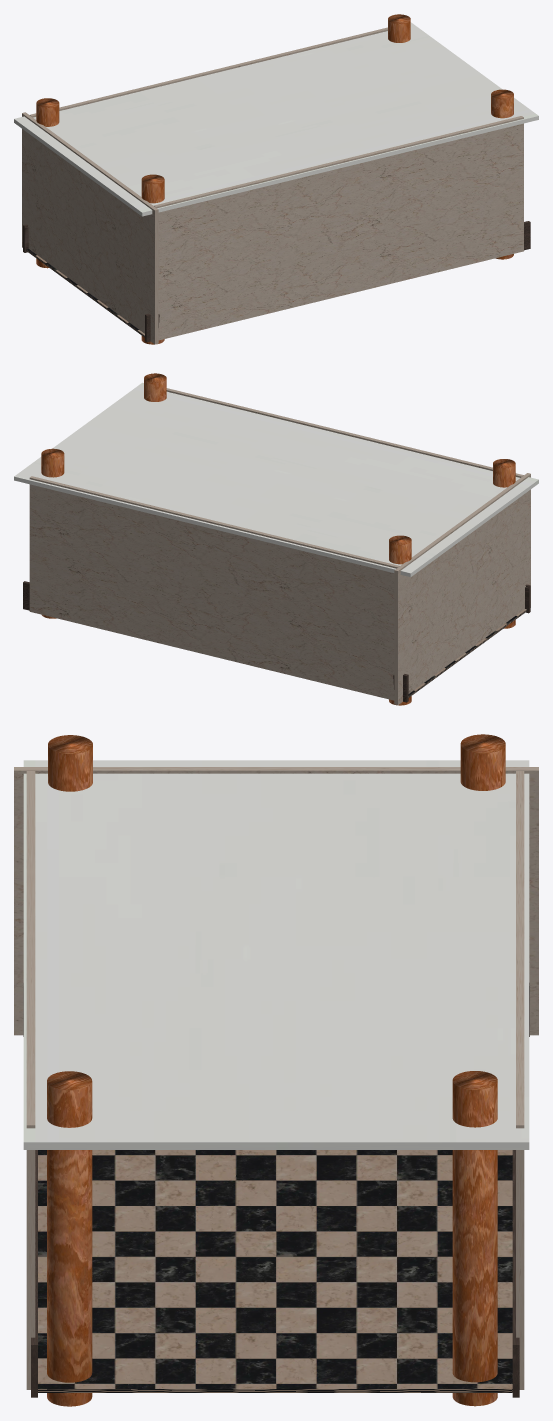
Rendered from gallery2.glb.
The picture shows the model from 3 angles, top to bottom: view 1: azimuth 30°, elevation 25°; view 2: azimuth 150°, elevation 25°; view 3: azimuth 270°, elevation 25°; orthographic projection. The views are drawn at different scales.
Parts seen in each view (by area): view 1: Cube, Cube.008, Cube.009, Cube.007, Cylinder.001, Cylinder, Cylinder.002, Cylinder.003, Cube.001; view 2: Cube.007, Cube.008, Cube.009, Cube, Cylinder, Cylinder.003, Cylinder.001, Cylinder.002, Cube.001; view 3: Cube.008, Cube.001, Cylinder.002, Cylinder.003, Cube.009, Cube, Cube.007, Cylinder, Cylinder.001, Cube.006, Cube.004.
Boxes of the visible parts, left/top/right/bottom form: Cube: left=154, top=116, right=523, bottom=340; Cube.008: left=14, top=22, right=538, bottom=216; Cube.009: left=22, top=112, right=158, bottom=344; Cube.007: left=30, top=27, right=387, bottom=117; Cylinder.001: left=141, top=174, right=164, bottom=344; Cylinder: left=36, top=98, right=59, bottom=268; Cylinder.002: left=491, top=89, right=513, bottom=259; Cylinder.003: left=388, top=14, right=410, bottom=42; Cube.001: left=26, top=248, right=144, bottom=337; Cube.007: left=29, top=476, right=399, bottom=700; Cube.008: left=14, top=382, right=538, bottom=577; Cube.009: left=394, top=473, right=530, bottom=704; Cube: left=166, top=388, right=523, bottom=477; Cylinder: left=389, top=535, right=411, bottom=705; Cylinder.003: left=41, top=448, right=64, bottom=618; Cylinder.001: left=493, top=459, right=515, bottom=628; Cylinder.002: left=144, top=373, right=166, bottom=401; Cube.001: left=408, top=609, right=526, bottom=697; Cube.008: left=23, top=760, right=529, bottom=1149; Cube.001: left=38, top=1150, right=512, bottom=1392; Cylinder.002: left=47, top=1071, right=92, bottom=1406; Cylinder.003: left=452, top=1071, right=497, bottom=1406; Cube.009: left=14, top=767, right=538, bottom=1035; Cube: left=26, top=771, right=35, bottom=1389; Cube.007: left=516, top=771, right=524, bottom=1389; Cylinder: left=460, top=734, right=505, bottom=790; Cylinder.001: left=48, top=735, right=92, bottom=791; Cube.006: left=512, top=1150, right=519, bottom=1397; Cube.004: left=31, top=1150, right=37, bottom=1397.
Size of the model in its own units: 30.95 by 11.95 by 17.98.
Materials: 15 (14 with a texture image).
